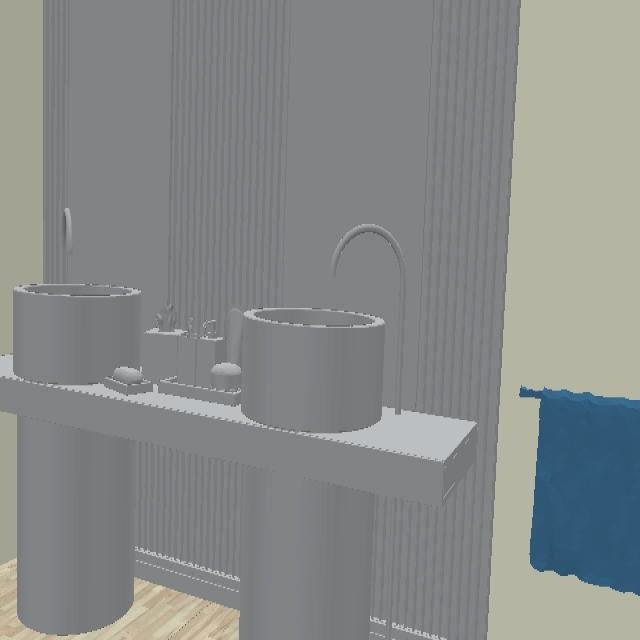washbasin: (239, 307, 385, 436), (12, 281, 142, 385)
